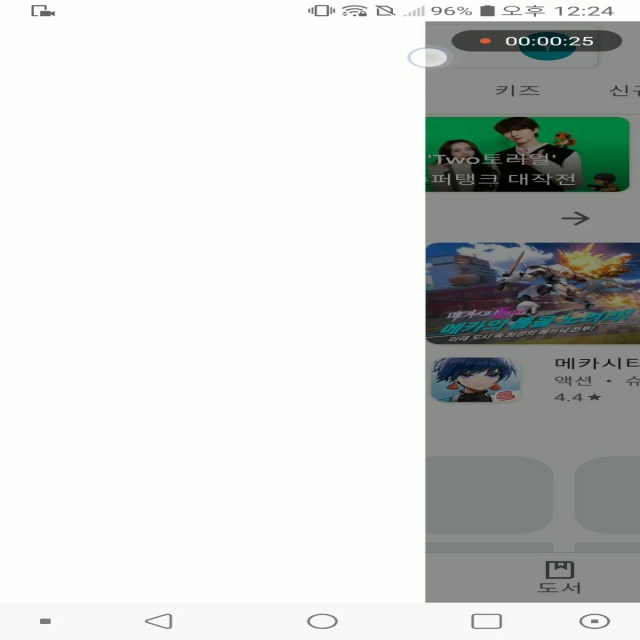Cursor: (407, 48, 451, 70)
